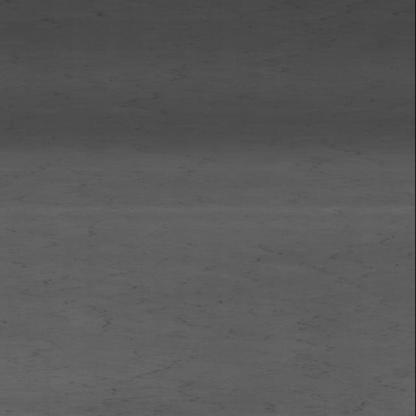silk_spot: (74, 263, 372, 403)
